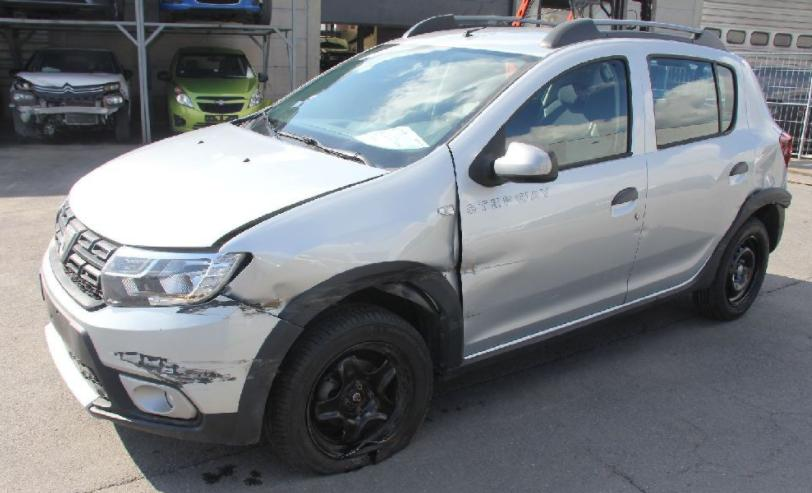Back-bumper: (722, 187, 792, 253)
Back-door: (624, 44, 756, 304)
Back-wheel: (692, 217, 770, 320)
Back-window: (650, 59, 734, 145)
Fender: (219, 142, 463, 371)
Front-bumper: (39, 241, 304, 446)
Front-door: (445, 41, 649, 357)
Front-wheel: (262, 301, 436, 475)
Front-window: (505, 59, 628, 166)
Grille: (50, 184, 123, 310)
Headlight: (99, 245, 252, 307)
Hood: (70, 120, 388, 249)
Mirror: (469, 124, 560, 188)
Quarter-panel: (749, 123, 788, 196)
Rocker-panel: (437, 236, 734, 385)
Roof: (383, 15, 728, 57)
Tail-light: (778, 131, 793, 167)
Windshield: (237, 44, 544, 173)
